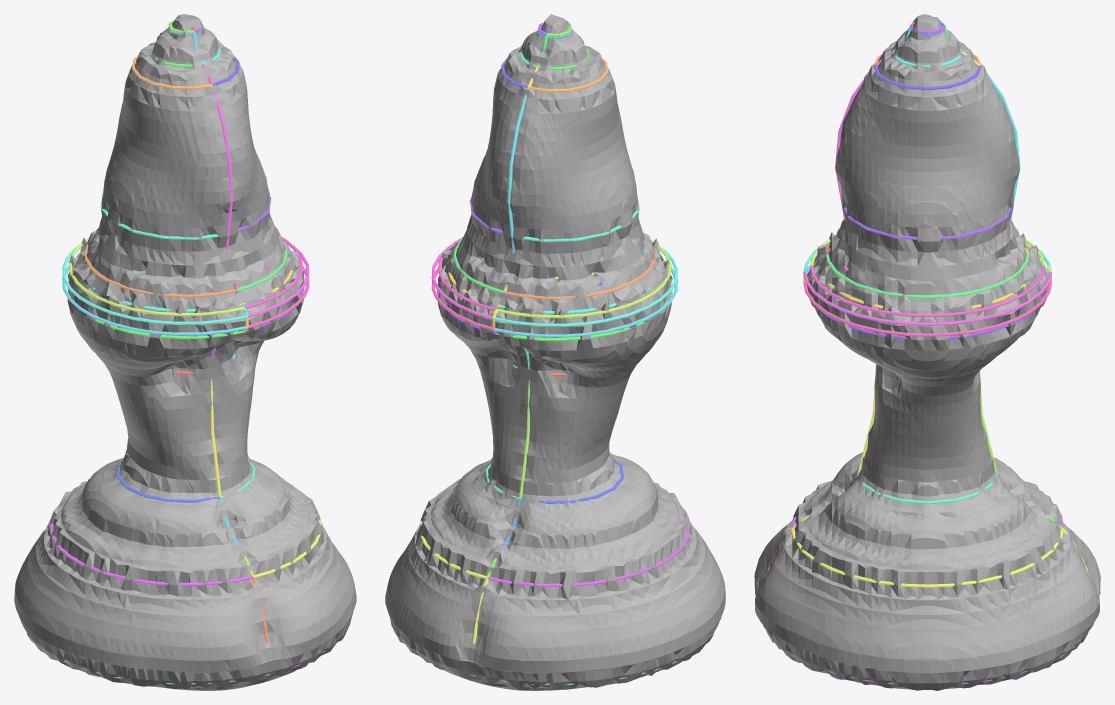
File: onshape_bishop.gltf
3 views of the same model, side by side, from view 1: azimuth 30°, elevation 25°; view 2: azimuth 150°, elevation 25°; view 3: azimuth 270°, elevation 25° (orthographic).
Size of the model in its own units: 0.4295 by 0.8851 by 0.4315.
